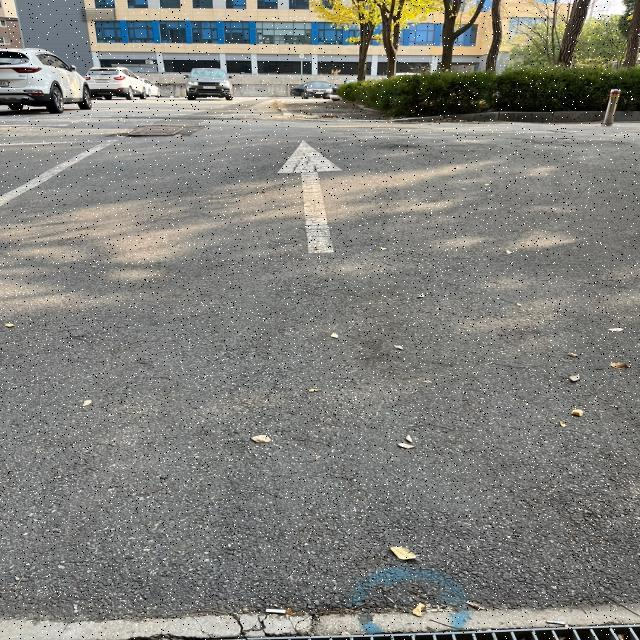forward: (182, 137, 468, 359)
